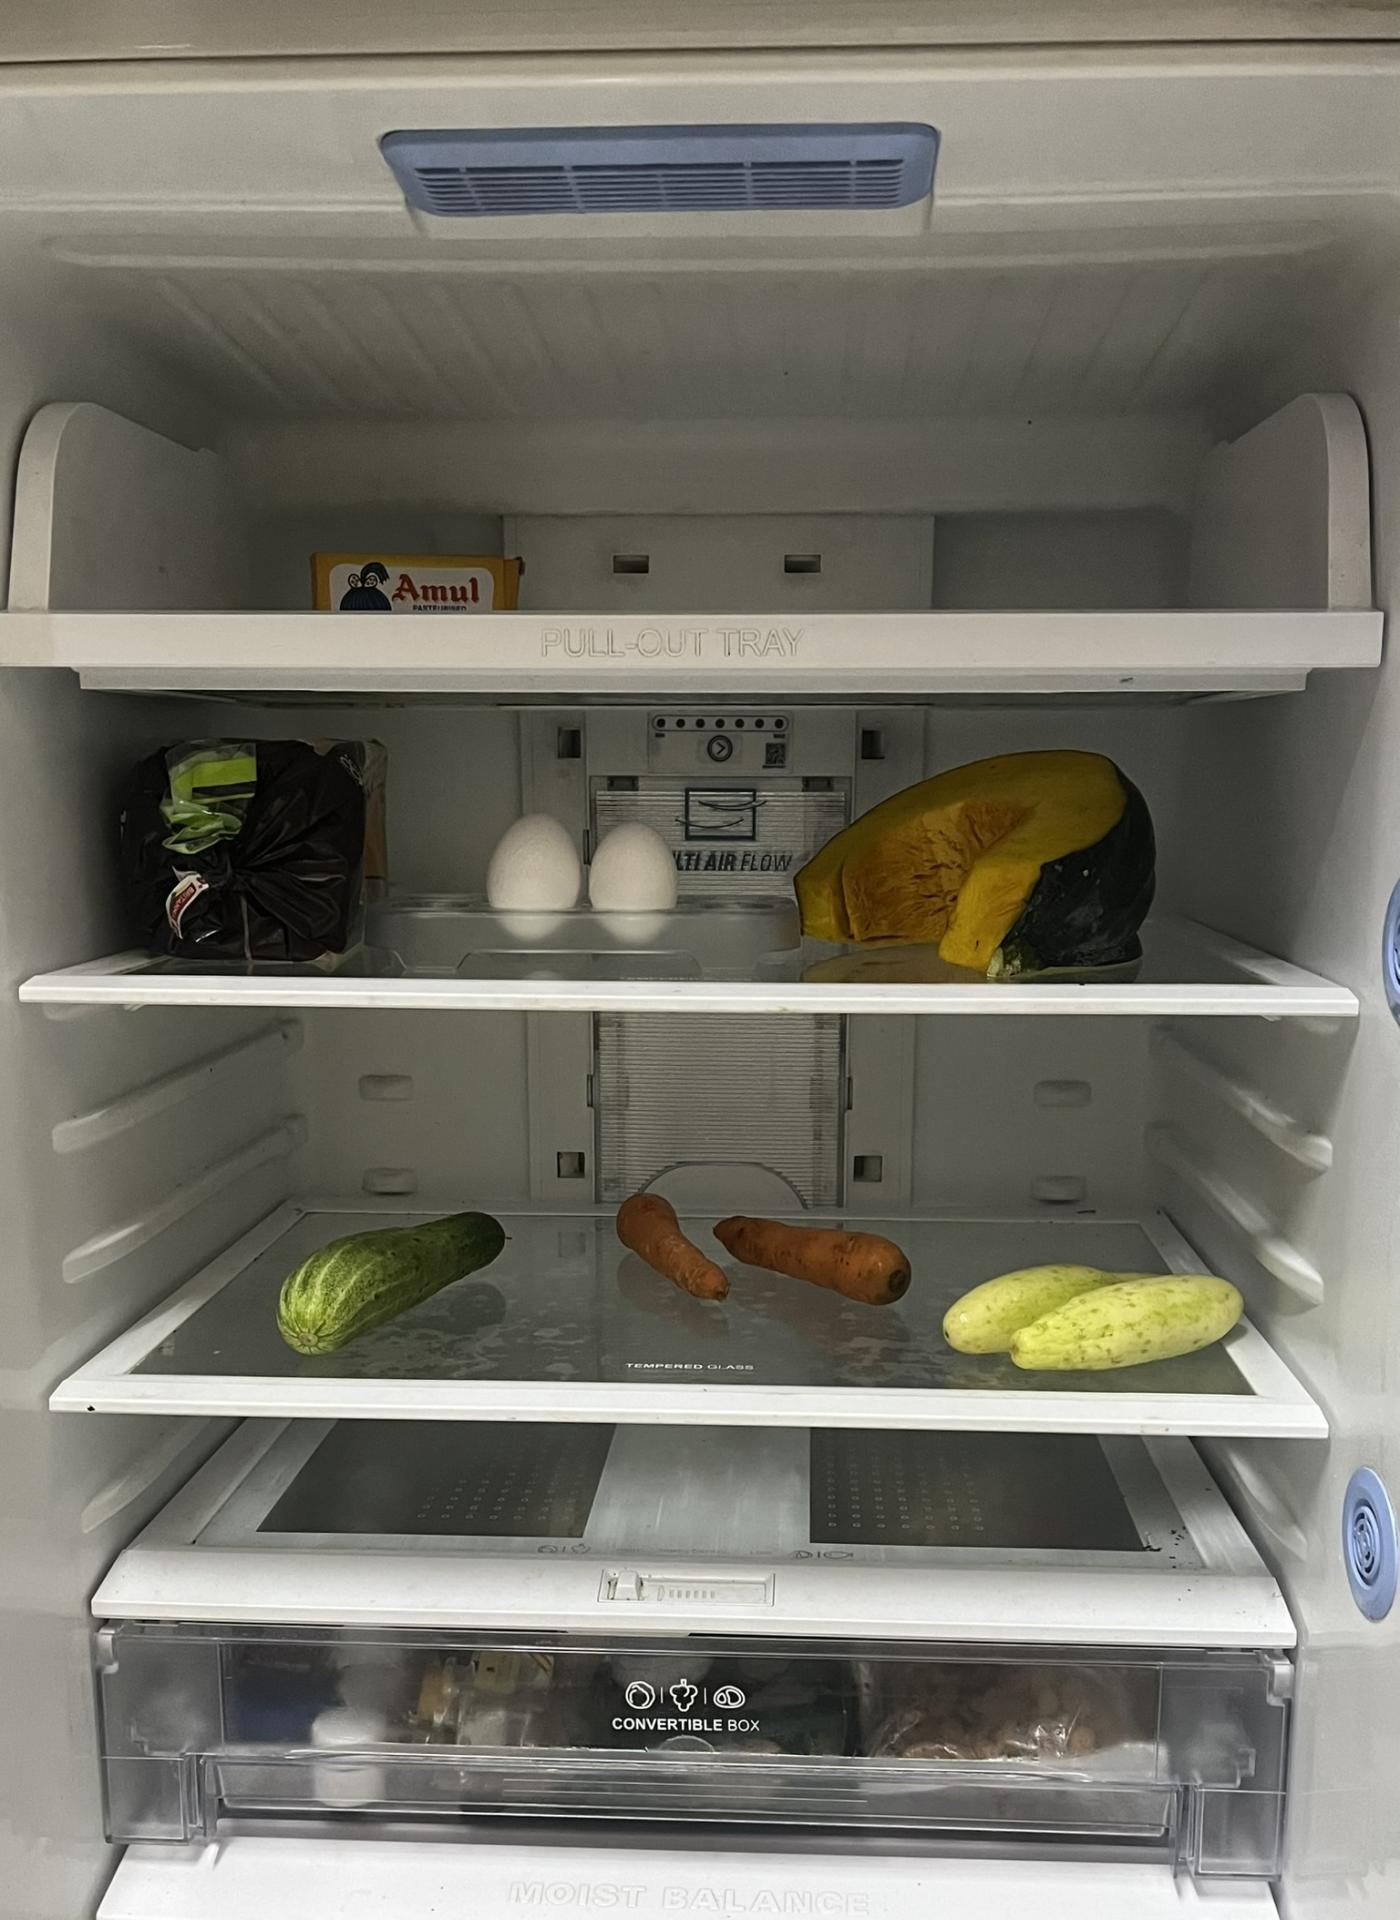bread: (143, 747, 389, 966)
butter: (304, 550, 522, 619)
carrots: (948, 1260, 1255, 1374), (717, 1203, 911, 1322), (620, 1172, 735, 1309)
cucumber: (270, 1203, 504, 1354)
egg: (492, 809, 589, 941), (592, 815, 689, 935)
pumpkin: (799, 744, 1161, 966)
